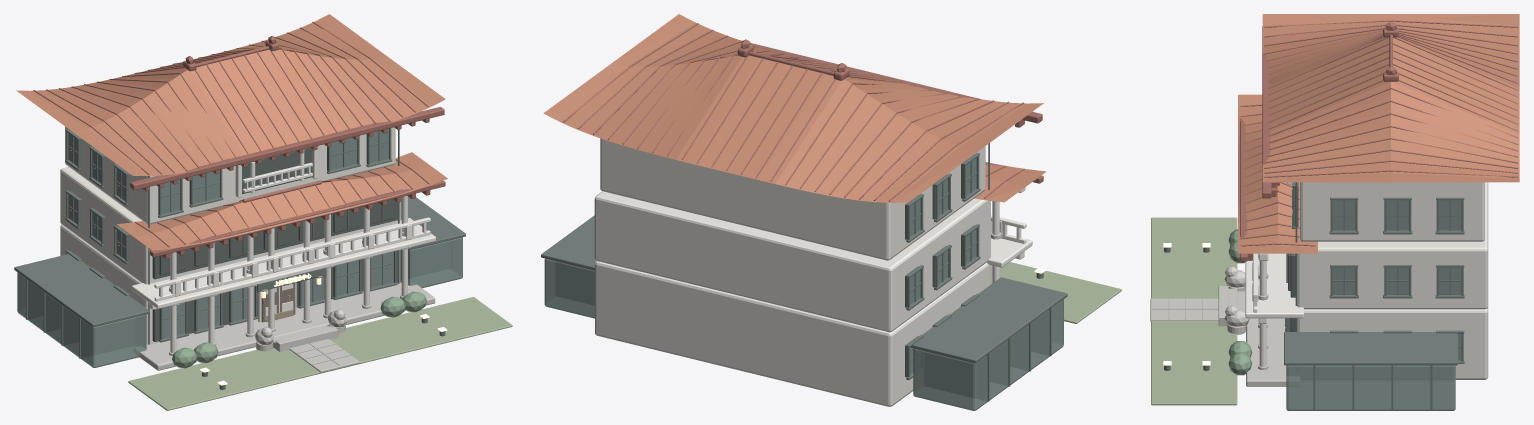
The model's file is film-art-center.glb.
3 renders of one model, left to right at view 1: azimuth 30°, elevation 25°; view 2: azimuth 150°, elevation 25°; view 3: azimuth 270°, elevation 25°, orthographic. The views are drawn at different scales.
Visible parts, largest first — view 1: film-art-center; view 2: film-art-center; view 3: film-art-center.
Boxes of the visible parts, box(x1,y1,x2,y2) form: film-art-center: box(14, 14, 512, 410); film-art-center: box(541, 14, 1121, 410); film-art-center: box(1150, 14, 1519, 410).
Size of the model in its own units: 23.11 by 14.4 by 17.95.
